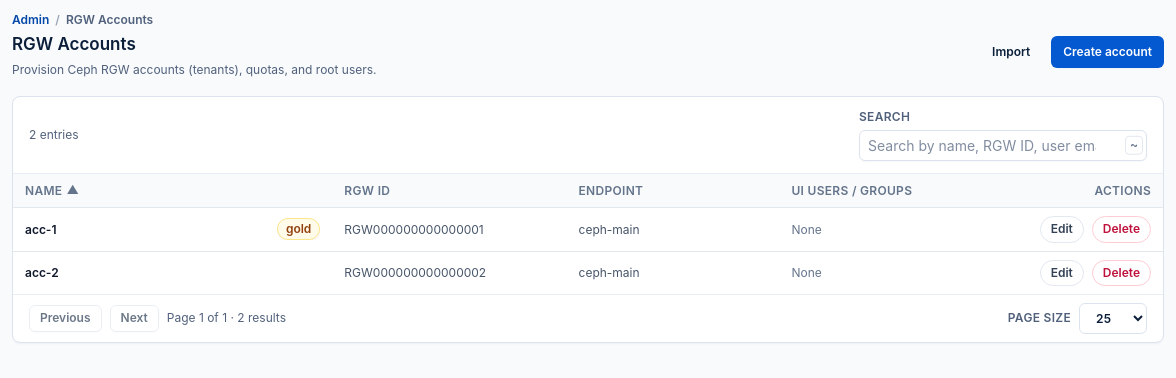
Test: AccountsPage modal tabs › keeps tagged accounts visible with exact quick filter mode
Check: the text "acc-1" is shown, box [25,222,56,236]
Check: the text "acc-2" is shown, box [25,265,59,280]
Click the button named "Toggle filter match mode" at (1134, 145), box [1125,136,1143,154]
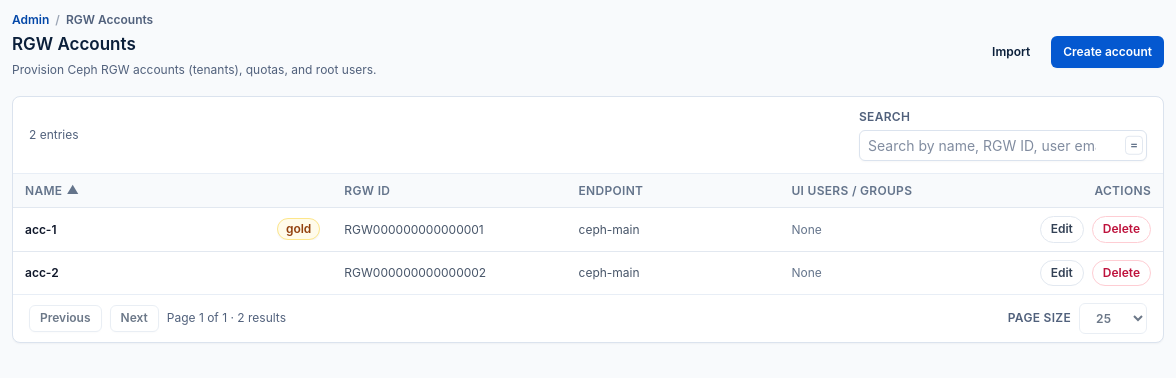
Type "gold" into the search field labelled "Search" at (1003, 145), box [859,130,1147,160]
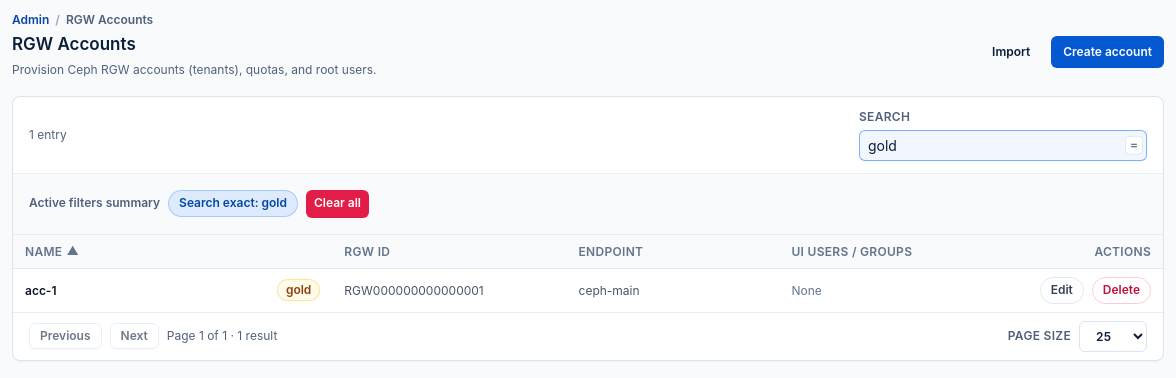
Check: the text "acc-1" is shown, box [25,282,56,298]
Check: the text "acc-2" is gone
